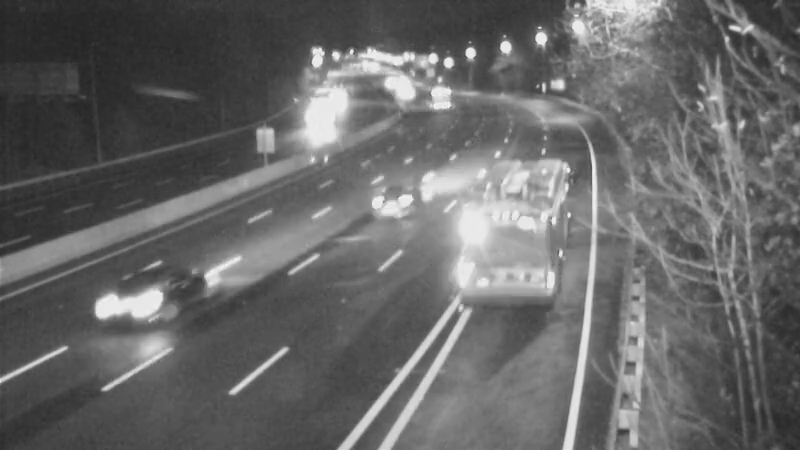vehicle: (461, 190, 541, 270), (358, 161, 438, 241), (85, 259, 165, 339), (379, 66, 429, 116), (413, 68, 463, 118), (291, 99, 341, 149)
